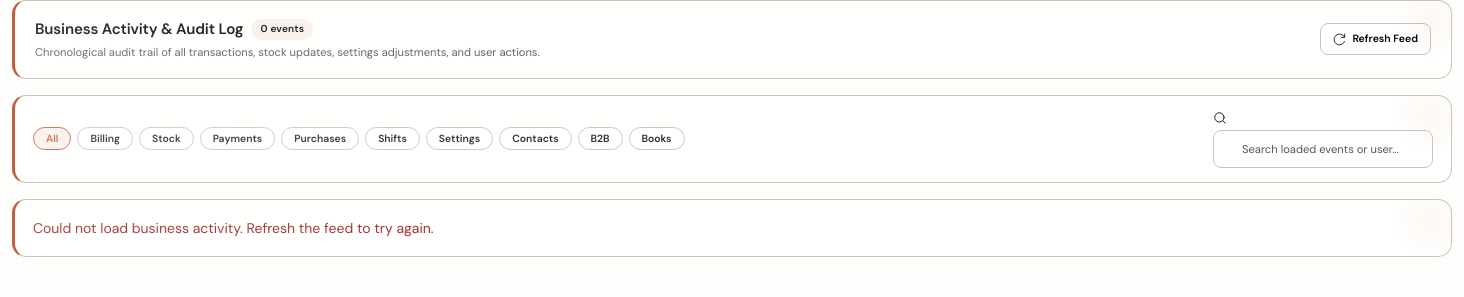
Test case: Business activity audit feed › shows load failures instead of reporting an empty audit history
expect the message shows "Could not load business activity": met, box [33,219,434,237]
Click the button "Refresh Feed". click: (1376, 39)
box: [1320,23,1431,55]
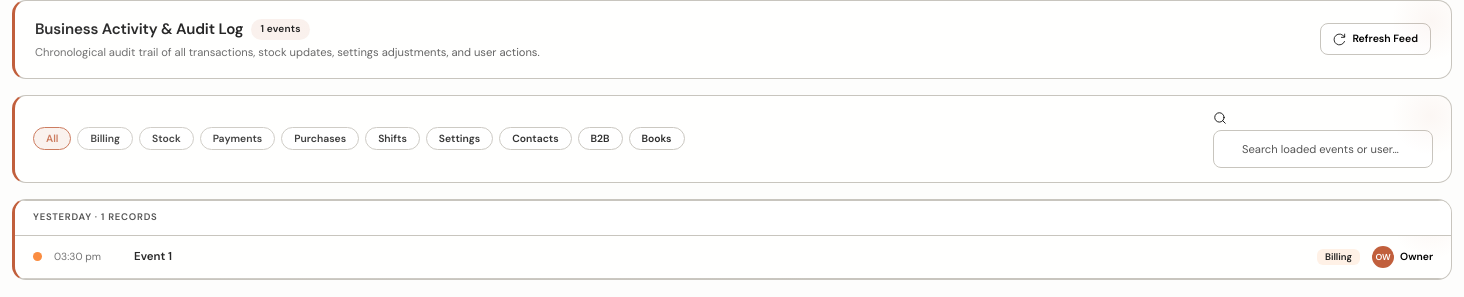
expect the button with aria-label "View activity: Event 1" is shown: met, box [15,236,1451,279]
expect the message "Could not load business activity. Refresh the feed to try again." is gone: met
